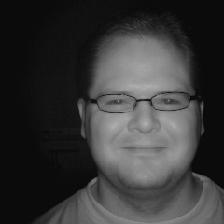happy: (71, 17, 213, 195)
